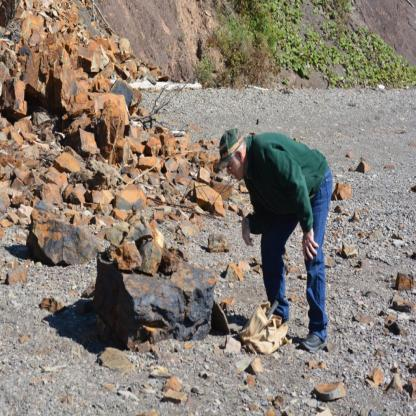person: (199, 110, 352, 366)
